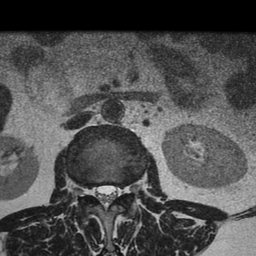CCS_normal: (101, 178, 109, 216)
LFS_stenosis: (119, 180, 129, 202)
LLS_normal: (110, 179, 119, 208)
RFS_stenosis: (83, 178, 93, 204)
RLS_normal: (93, 179, 101, 209)
